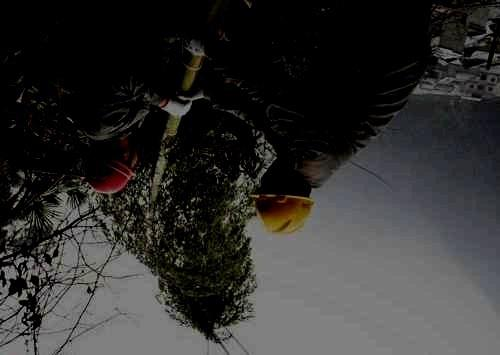helmet: (248, 157, 315, 237), (83, 133, 139, 194)
